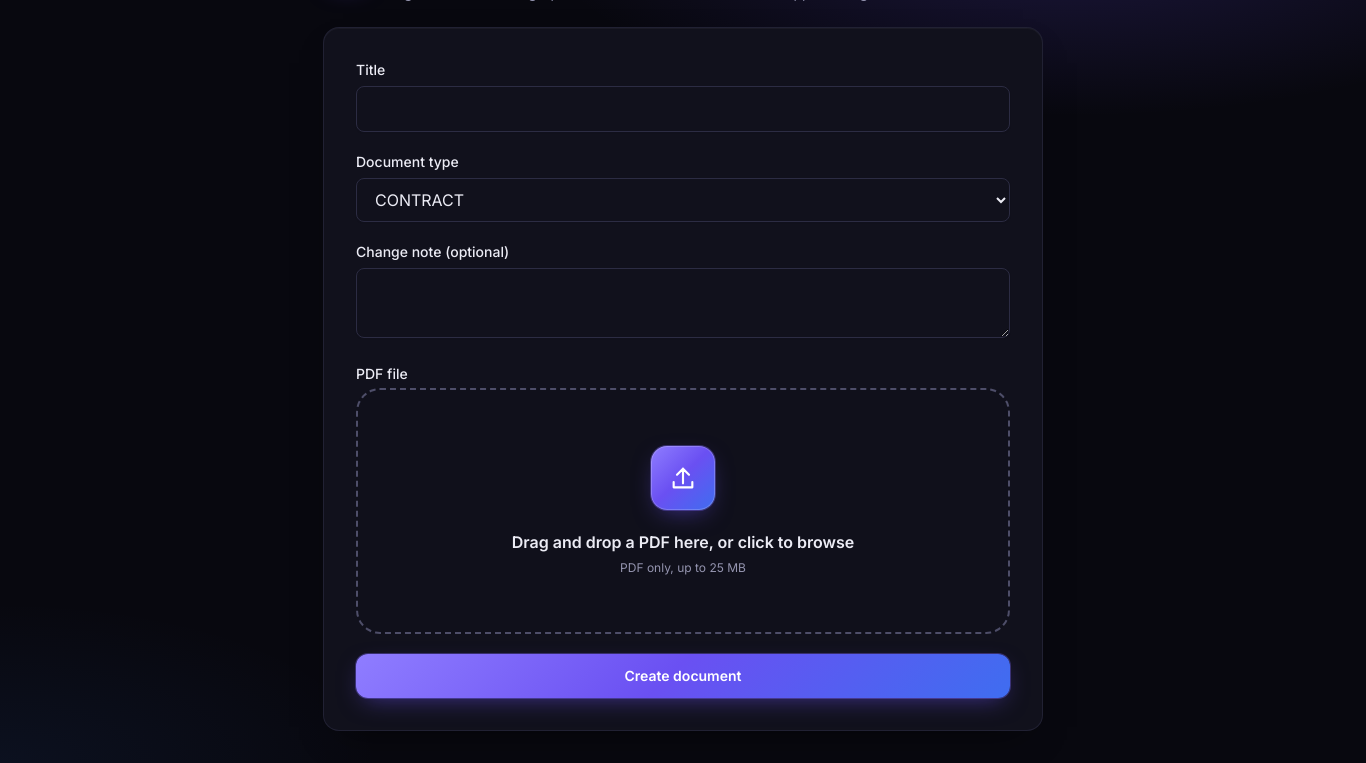
DocumentNew page › validates the required title and file before submitting
(page scrolled)
Expected: the field labelled "Title" is shown, [356,86,1010,132]
Click the button "Create document": (683, 676) [356,654,1010,698]
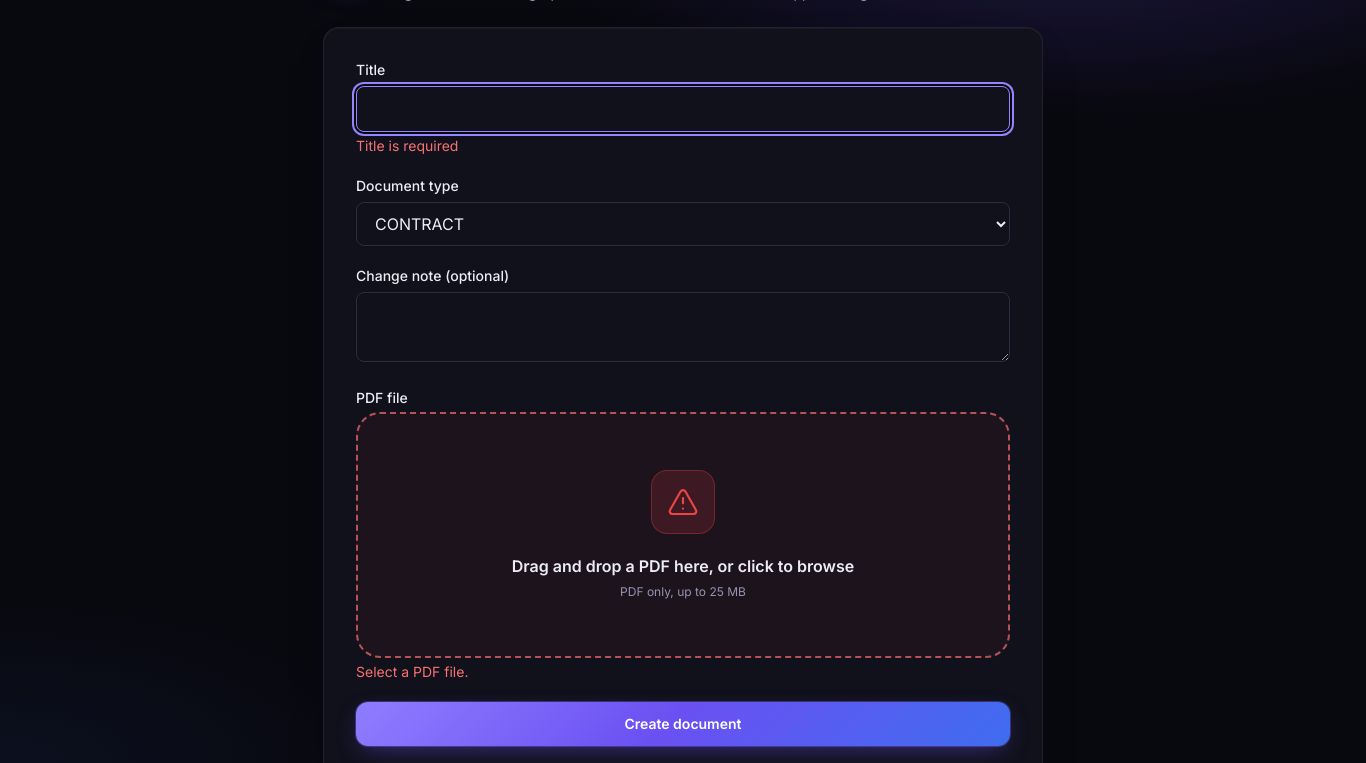
Now the text "Title is required" is shown, box [356,137,458,154]
Now the text "Select a PDF file." is shown, box [356,663,468,680]
